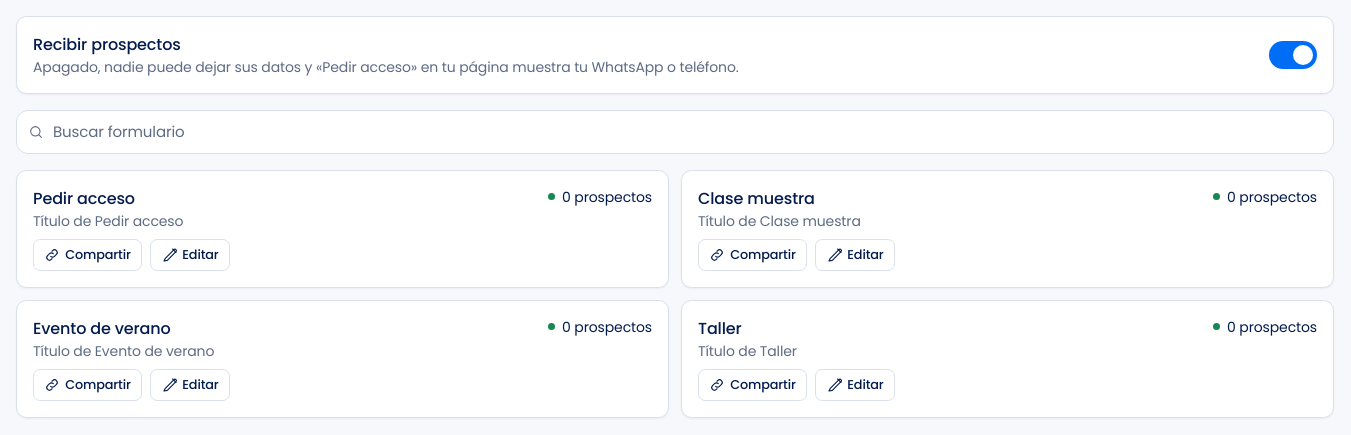
it: formularios de captación › con más de tres, busca por nombre o título
The width and height of the screenshot is (1351, 435).
Step 1. Type "muestra" into the search field with placeholder "Buscar formulario" → (675, 132), box [16,110,1334,154]
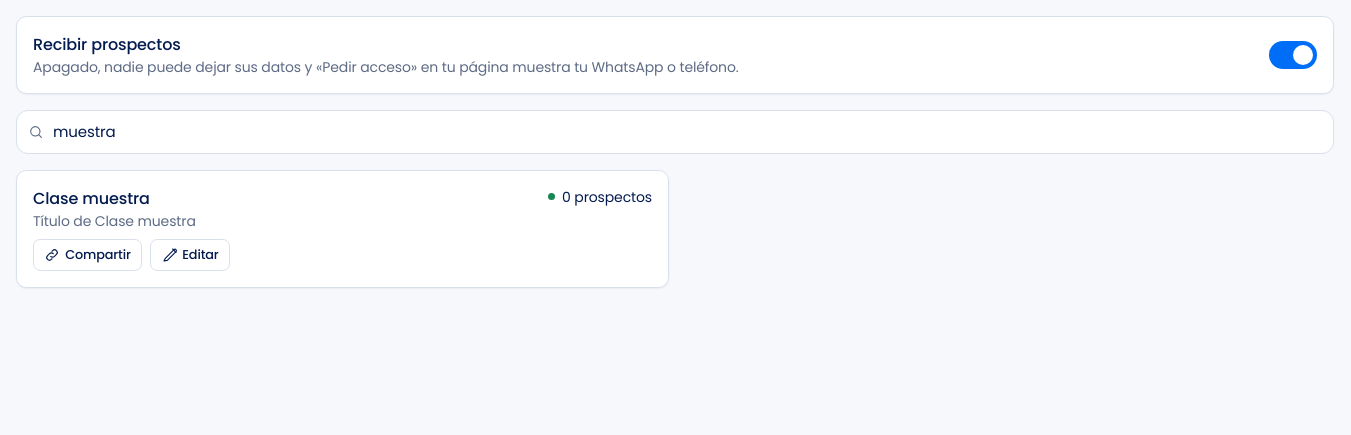
Expected: the list item shows "Clase muestra", [33,187,150,210]
Expected: the number of list items is 1, [16,170,669,288]
